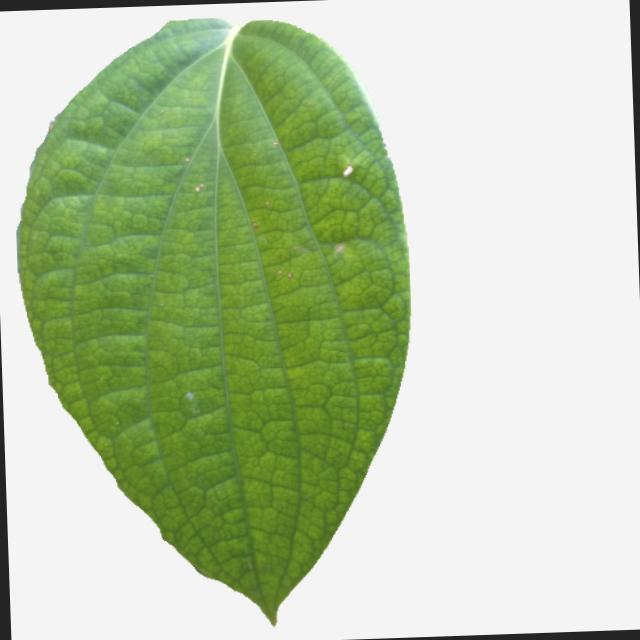healthy: (4, 5, 423, 632)
